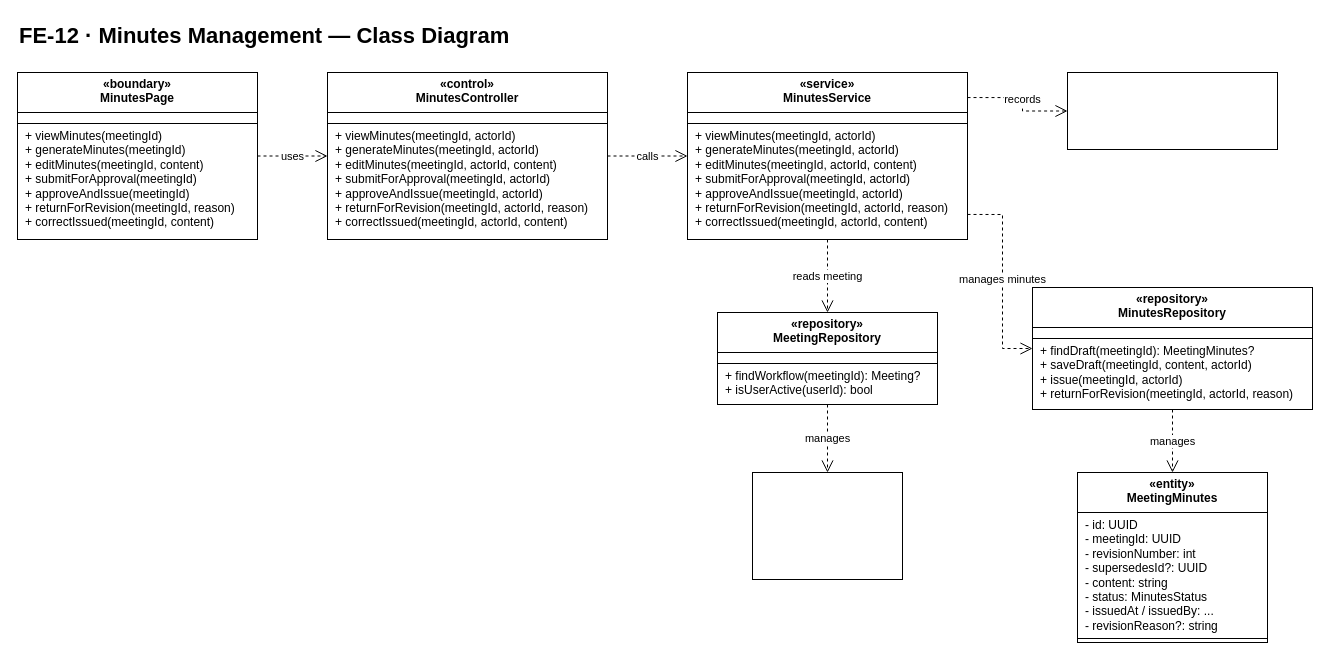
Image size: 1330x660. Some labels were removed from this diagram. Here are the shapes that lost their labels. From the top down, the box of each, then its label:
(1066, 72, 1278, 150): «service» AuditService + record(action, actorId, meetingId)
(752, 472, 902, 580): «entity» Meeting - id: UUID - title: string - status: MeetingStatus
